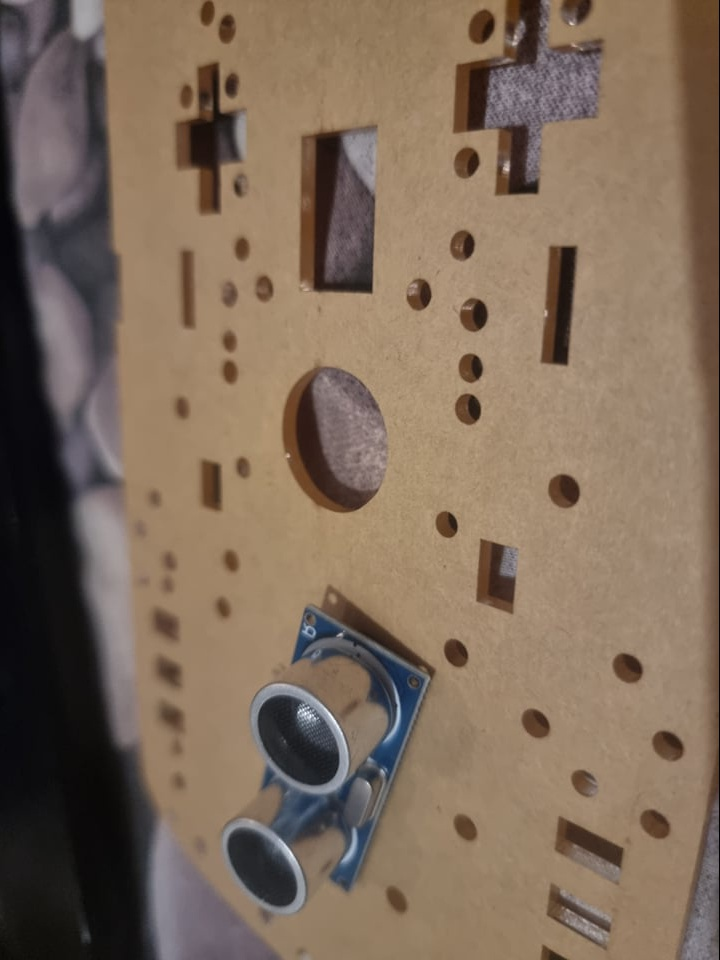SENSOR: (222, 603, 425, 915)
